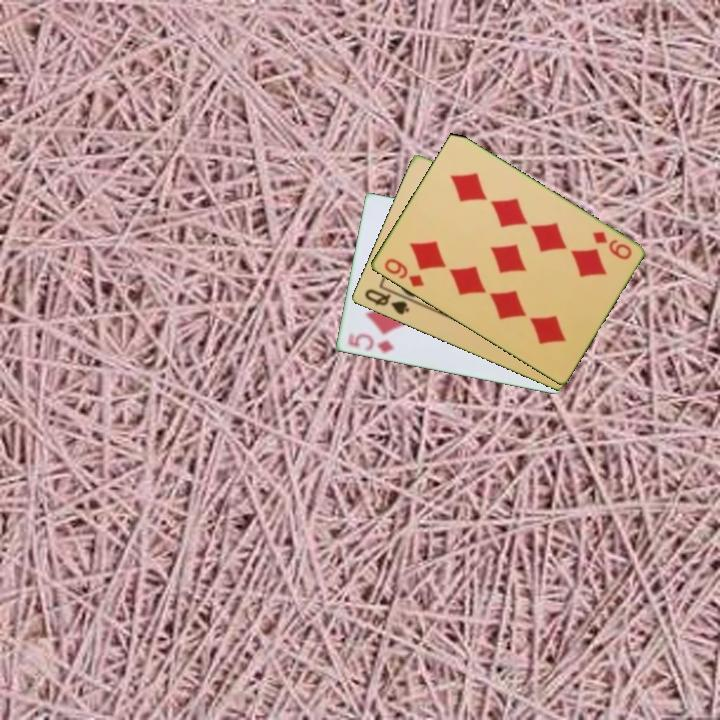5d: (343, 330, 396, 356)
9d: (380, 255, 427, 290), (588, 228, 634, 263)
Qs: (361, 285, 412, 318)
